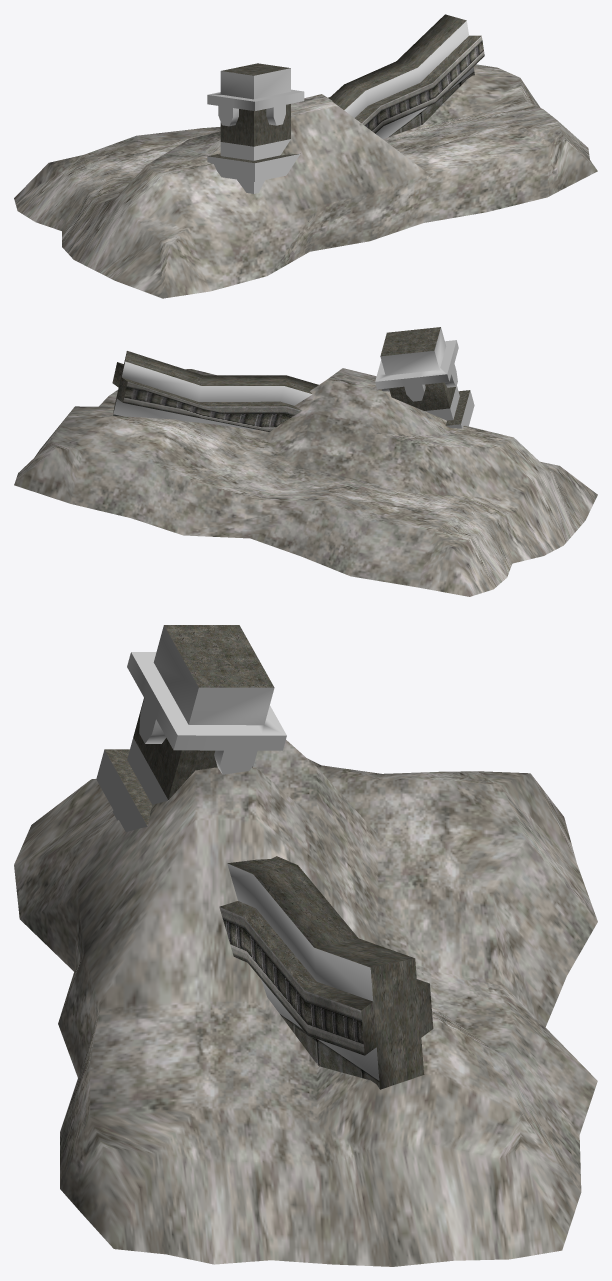
The model's file is DEBREE_LONG_FULL.obj.
3 views of the same model, one above another, from view 1: azimuth 30°, elevation 25°; view 2: azimuth 150°, elevation 25°; view 3: azimuth 270°, elevation 25° (orthographic). The views are drawn at different scales.
Parts seen in each view (by area): view 1: ebree_long_full; view 2: ebree_long_full; view 3: ebree_long_full.
Boxes of the visible parts, box(x1,y1,x2,y2) form: ebree_long_full: box(14, 14, 597, 298); ebree_long_full: box(14, 327, 597, 596); ebree_long_full: box(14, 625, 597, 1266).
Size of the model in its own units: 946 by 347 by 500.
